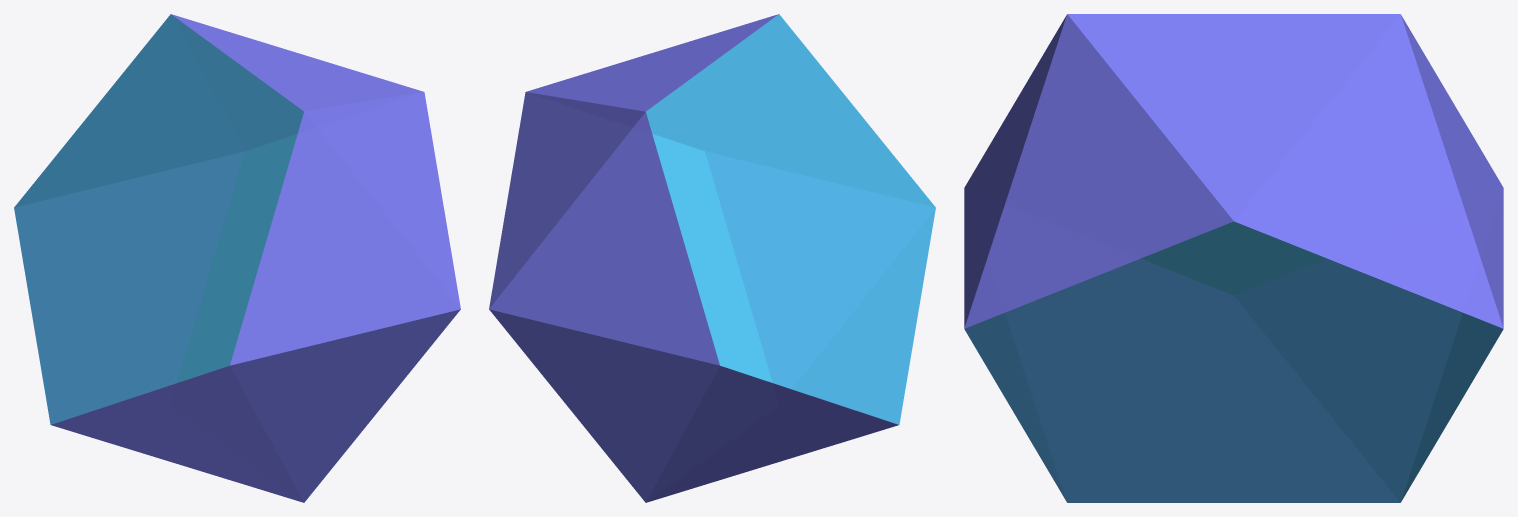
File: PentagonalAntiprism.obj
3 renders of one model, left to right at view 1: azimuth 30°, elevation 25°; view 2: azimuth 150°, elevation 25°; view 3: azimuth 270°, elevation 25°, orthographic. The views are drawn at different scales.
Size of the model in its own units: 1.62 by 1.62 by 1.62.
